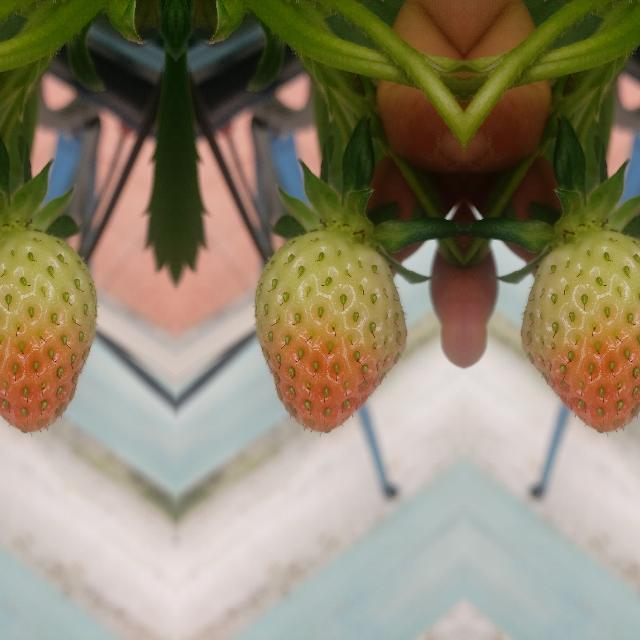Health_50: (254, 230, 406, 432), (519, 230, 640, 431), (0, 230, 96, 431)
